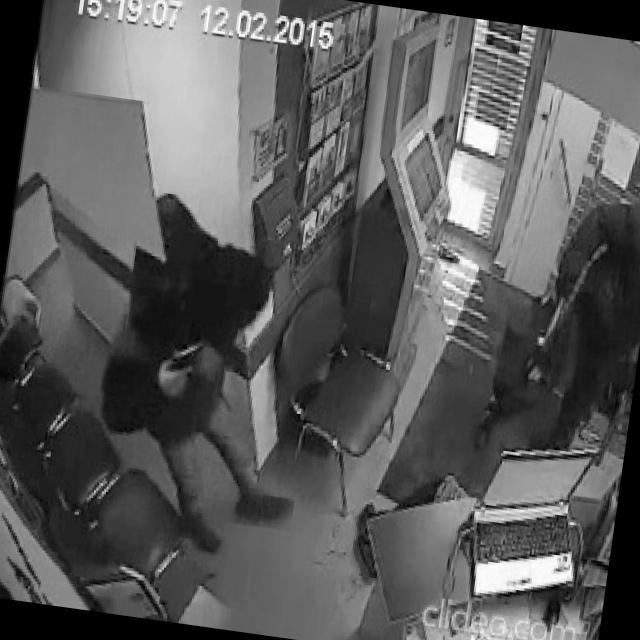gun: (156, 326, 211, 384)
person: (469, 168, 640, 475)
person with a gun: (79, 184, 339, 562)
